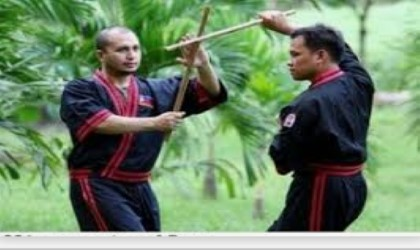baston_e: (170, 17, 206, 112), (179, 17, 254, 52)
baston_v: (158, 127, 173, 146), (159, 41, 171, 56), (288, 4, 298, 17), (202, 2, 210, 15)
